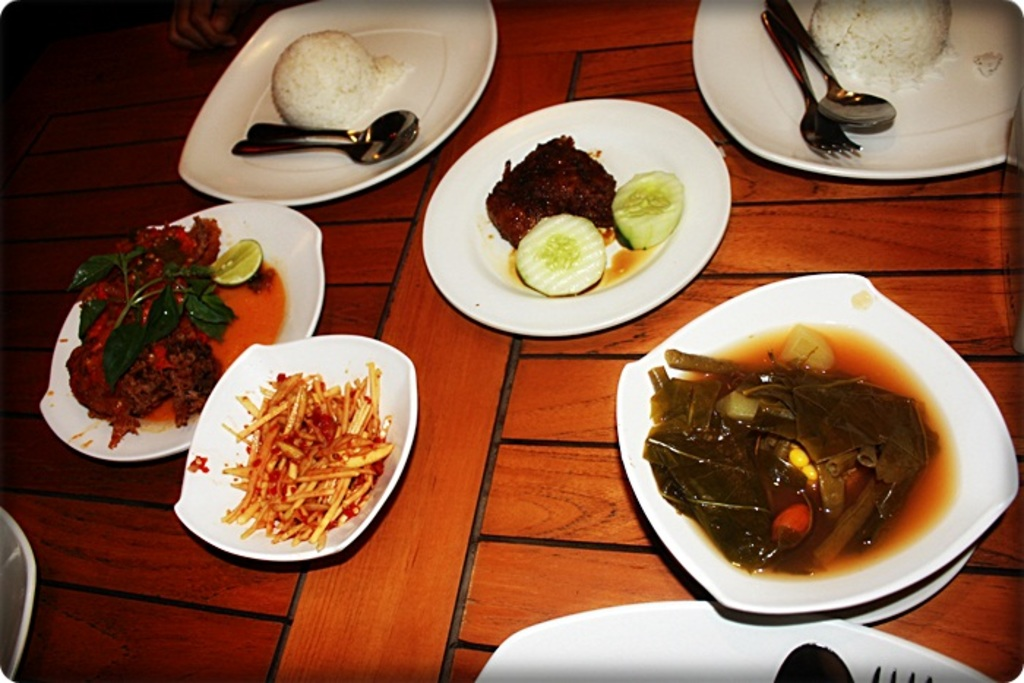French fries: (179, 339, 374, 557)
